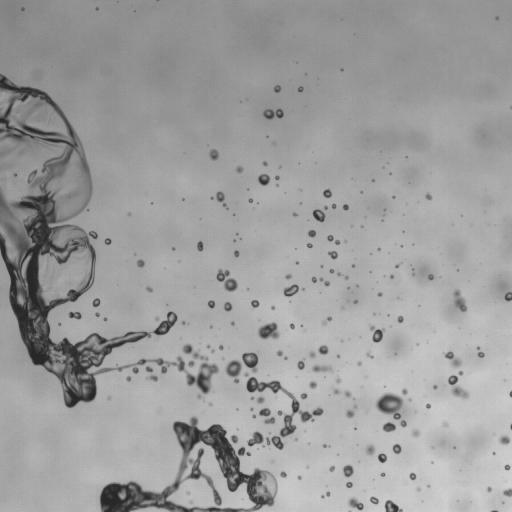droplet: (374, 392, 406, 427), (224, 351, 258, 383), (442, 350, 463, 369), (257, 322, 280, 339), (368, 323, 385, 344), (452, 289, 467, 312), (258, 408, 275, 424), (347, 496, 364, 511), (384, 499, 403, 511), (144, 366, 158, 381), (312, 209, 325, 222), (345, 404, 357, 418), (257, 173, 270, 185), (498, 434, 511, 445), (342, 464, 353, 477), (382, 422, 396, 432), (365, 444, 376, 456), (208, 149, 219, 160), (318, 344, 329, 355), (20, 153, 31, 164), (4, 192, 15, 203), (315, 197, 326, 208), (224, 290, 235, 301), (64, 300, 75, 311), (82, 304, 93, 315), (46, 309, 57, 320), (7, 315, 18, 326), (131, 322, 142, 333), (113, 327, 124, 338), (102, 329, 113, 340), (49, 331, 60, 342), (17, 344, 28, 355), (164, 351, 175, 362), (314, 353, 325, 364), (102, 354, 113, 365), (301, 367, 312, 378), (216, 368, 227, 379), (255, 371, 266, 382), (208, 374, 219, 385), (52, 381, 63, 392), (341, 398, 352, 409), (273, 418, 284, 429), (197, 420, 208, 431), (386, 431, 397, 442), (240, 463, 251, 474), (152, 482, 163, 493), (348, 487, 359, 498), (358, 493, 369, 504), (296, 357, 305, 370), (392, 443, 402, 454), (377, 452, 387, 463), (68, 311, 81, 319), (322, 188, 332, 198), (327, 250, 338, 259), (223, 301, 232, 311), (365, 349, 374, 359), (502, 487, 511, 497), (369, 496, 379, 505), (251, 299, 259, 310), (476, 346, 484, 357), (91, 298, 100, 307), (3, 89, 12, 98), (4, 137, 13, 146), (257, 165, 266, 174), (19, 170, 28, 179), (310, 219, 319, 228), (326, 241, 335, 250), (326, 258, 335, 267), (2, 275, 11, 284), (446, 294, 455, 303), (214, 300, 223, 309), (199, 346, 208, 355), (182, 353, 191, 362), (304, 358, 313, 367), (217, 362, 226, 371), (152, 364, 161, 373), (168, 365, 177, 374), (177, 371, 186, 380), (311, 371, 320, 380), (238, 375, 247, 384), (337, 382, 346, 391), (190, 383, 199, 392), (392, 387, 401, 396), (374, 389, 383, 398), (298, 402, 307, 411), (291, 413, 300, 422), (384, 413, 393, 422), (230, 441, 239, 450), (384, 448, 393, 457), (334, 466, 343, 475), (118, 476, 127, 485), (307, 229, 317, 237), (410, 429, 420, 437), (136, 259, 145, 267), (207, 300, 215, 309), (309, 380, 317, 389), (197, 240, 203, 251), (92, 505, 103, 511), (146, 505, 157, 511), (258, 505, 269, 511), (362, 505, 373, 511), (374, 505, 385, 511), (235, 165, 243, 173), (308, 350, 316, 358), (279, 470, 287, 478), (408, 472, 416, 480), (504, 292, 511, 301), (299, 392, 308, 399), (273, 85, 281, 92), (425, 192, 432, 200), (145, 286, 153, 293), (300, 324, 307, 332), (0, 224, 5, 235), (0, 259, 5, 270), (335, 375, 341, 384), (104, 238, 111, 245), (285, 273, 292, 280), (427, 273, 434, 280), (442, 420, 449, 427), (15, 80, 22, 87), (29, 81, 36, 88), (71, 123, 78, 130), (3, 154, 10, 161), (85, 157, 92, 164), (35, 163, 42, 170), (6, 168, 13, 175), (268, 177, 275, 184), (90, 191, 97, 198), (14, 195, 21, 202), (325, 197, 332, 204), (335, 203, 342, 210), (97, 234, 104, 241), (307, 236, 314, 243), (88, 237, 95, 244), (93, 270, 100, 277), (323, 273, 330, 280), (346, 278, 353, 285), (285, 279, 292, 286), (236, 281, 243, 288), (459, 290, 466, 297), (264, 317, 271, 324), (151, 321, 158, 328), (275, 325, 282, 332), (252, 328, 259, 335), (265, 335, 272, 342), (69, 337, 76, 344), (181, 338, 188, 345), (326, 349, 333, 356), (452, 350, 459, 357), (24, 355, 31, 362), (361, 355, 368, 362), (224, 356, 231, 363), (206, 358, 213, 365), (35, 363, 42, 370), (138, 364, 145, 371), (240, 364, 247, 371), (125, 367, 132, 374), (451, 368, 458, 375), (93, 374, 100, 381), (52, 376, 59, 383), (264, 386, 271, 393), (304, 386, 311, 393), (252, 389, 259, 396), (94, 390, 101, 397), (468, 391, 475, 398), (203, 392, 210, 399), (337, 392, 344, 399), (400, 394, 407, 401), (454, 395, 461, 402), (76, 399, 83, 406), (88, 399, 95, 406), (257, 402, 264, 409), (285, 407, 292, 414), (353, 408, 360, 415), (269, 409, 276, 416), (183, 417, 190, 424), (392, 418, 399, 425), (405, 423, 412, 430), (169, 431, 176, 438), (224, 432, 231, 439), (246, 432, 253, 439), (365, 438, 372, 445), (243, 444, 250, 451), (175, 445, 182, 452), (359, 447, 366, 454), (373, 448, 380, 455), (371, 452, 378, 459), (237, 454, 244, 461), (172, 464, 179, 471), (273, 471, 280, 478), (167, 477, 174, 484), (102, 478, 109, 485), (503, 482, 510, 489), (140, 484, 147, 491), (95, 487, 102, 494), (355, 495, 362, 502), (504, 495, 511, 502), (93, 496, 100, 503), (378, 499, 385, 506), (305, 242, 313, 248), (397, 315, 403, 323), (401, 388, 407, 396), (345, 481, 353, 487), (506, 495, 511, 504), (133, 506, 142, 511), (342, 204, 349, 210), (233, 250, 239, 257), (276, 350, 283, 356), (504, 464, 511, 470), (181, 320, 189, 325), (297, 86, 303, 92), (356, 360, 362, 366), (425, 403, 431, 409), (328, 465, 334, 471), (486, 486, 492, 492), (289, 322, 294, 329), (273, 175, 279, 180), (331, 203, 336, 209), (292, 212, 298, 217), (218, 344, 223, 350), (380, 471, 385, 477), (507, 432, 511, 439), (160, 507, 167, 511), (351, 507, 358, 511), (262, 161, 267, 166), (323, 205, 328, 210), (329, 268, 334, 273), (389, 274, 394, 279), (377, 292, 382, 297), (95, 312, 100, 317), (126, 376, 131, 381), (252, 413, 257, 418), (416, 486, 421, 491), (270, 82, 275, 87), (39, 86, 44, 91), (269, 88, 274, 93), (51, 96, 56, 101), (271, 106, 276, 111), (282, 110, 287, 115), (272, 114, 277, 119), (66, 116, 71, 121), (263, 117, 268, 122), (68, 119, 73, 124), (209, 144, 214, 149), (214, 145, 219, 150), (217, 152, 222, 157), (205, 154, 210, 159), (213, 158, 218, 163), (238, 161, 243, 166), (231, 164, 236, 169), (11, 167, 16, 172), (27, 167, 32, 172), (36, 170, 41, 175), (240, 170, 245, 175), (275, 170, 280, 175), (234, 171, 239, 176), (91, 181, 96, 186), (256, 182, 261, 187), (261, 184, 266, 189), (321, 185, 326, 190), (329, 187, 334, 192), (318, 191, 323, 196), (429, 191, 434, 196), (212, 197, 217, 202), (222, 197, 227, 202), (423, 198, 428, 203), (217, 201, 222, 206), (85, 203, 90, 208), (347, 203, 352, 208), (327, 205, 332, 210), (319, 206, 324, 211), (227, 209, 232, 214), (322, 209, 327, 214), (310, 216, 315, 221), (63, 219, 68, 224), (77, 222, 82, 227), (314, 232, 319, 237), (233, 234, 238, 239), (87, 235, 92, 240), (338, 237, 343, 242), (192, 242, 197, 247), (202, 242, 207, 247), (372, 248, 377, 253), (94, 250, 99, 255), (229, 250, 234, 255), (238, 250, 243, 255), (136, 254, 141, 259), (336, 254, 341, 259), (140, 255, 145, 260), (333, 257, 338, 262), (132, 262, 137, 267), (142, 264, 147, 269), (284, 269, 289, 274), (212, 270, 217, 275), (331, 272, 336, 277), (432, 272, 437, 277), (338, 275, 343, 280), (384, 275, 389, 280), (423, 276, 428, 281), (235, 279, 240, 284), (219, 280, 224, 285), (148, 282, 153, 287), (350, 284, 355, 289), (376, 287, 381, 292), (297, 288, 302, 293), (224, 289, 229, 294), (231, 289, 236, 294), (144, 290, 149, 295), (77, 295, 82, 300), (249, 295, 254, 300), (284, 295, 289, 300), (349, 296, 354, 301), (348, 300, 353, 305), (230, 301, 235, 306), (464, 301, 469, 306), (93, 306, 98, 311), (254, 306, 259, 311), (454, 306, 459, 311), (172, 308, 177, 313), (229, 308, 234, 313), (225, 310, 230, 315), (462, 310, 467, 315), (64, 312, 69, 317), (98, 314, 103, 319), (161, 315, 166, 320), (392, 316, 397, 321), (173, 321, 178, 326), (294, 323, 299, 328), (374, 324, 379, 329), (169, 325, 174, 330), (127, 326, 132, 331), (368, 330, 373, 335), (381, 331, 386, 336), (99, 332, 104, 337), (151, 332, 156, 337), (159, 333, 164, 338), (80, 335, 85, 340), (137, 338, 142, 343), (320, 340, 325, 345), (377, 340, 382, 345), (124, 341, 129, 346), (374, 341, 379, 346), (213, 344, 218, 349), (111, 346, 116, 351), (191, 346, 196, 351), (274, 346, 279, 351), (327, 347, 332, 352), (479, 347, 484, 352), (245, 348, 250, 353), (251, 348, 256, 353), (315, 351, 320, 356), (272, 352, 277, 357), (143, 354, 148, 359), (153, 354, 158, 359), (256, 354, 261, 359), (161, 355, 166, 360), (278, 355, 283, 360), (134, 356, 139, 361), (477, 356, 482, 361), (444, 357, 449, 362), (352, 359, 357, 364), (117, 361, 122, 366), (144, 361, 149, 366), (255, 362, 260, 367), (292, 362, 297, 367), (99, 363, 104, 368), (356, 365, 361, 370), (457, 365, 462, 370), (296, 368, 301, 373), (113, 369, 118, 374), (462, 369, 467, 374), (106, 370, 111, 375), (324, 370, 329, 375), (145, 371, 150, 376), (248, 372, 253, 377), (338, 373, 343, 378), (456, 374, 461, 379), (229, 375, 234, 380), (121, 377, 126, 382), (256, 377, 261, 382), (264, 378, 269, 383), (149, 379, 154, 384), (443, 379, 448, 384), (124, 380, 129, 385), (279, 381, 284, 386), (447, 383, 452, 388), (347, 386, 352, 391), (95, 387, 100, 392), (287, 387, 292, 392), (406, 387, 411, 392), (299, 388, 304, 393), (328, 388, 333, 393), (276, 389, 281, 394), (350, 391, 355, 396), (296, 396, 301, 401), (287, 398, 292, 403), (59, 399, 64, 404), (354, 399, 359, 404), (203, 402, 208, 407), (319, 403, 324, 408), (307, 408, 312, 413), (396, 408, 401, 413), (341, 409, 346, 414), (248, 410, 253, 415), (320, 412, 325, 417), (260, 414, 265, 419), (312, 414, 317, 419), (399, 415, 404, 420), (348, 416, 353, 421), (306, 418, 311, 423), (213, 419, 218, 424), (266, 422, 271, 427), (416, 425, 421, 430), (442, 426, 447, 431), (251, 427, 256, 432), (293, 428, 298, 433), (387, 430, 392, 435), (418, 432, 423, 437), (261, 433, 266, 438), (411, 436, 416, 441), (261, 439, 266, 444), (392, 439, 397, 444), (398, 441, 403, 446), (253, 442, 258, 447), (374, 458, 379, 463), (344, 460, 349, 465), (383, 460, 388, 465), (258, 465, 263, 470), (351, 465, 356, 470), (345, 476, 350, 481), (341, 483, 346, 488), (420, 484, 425, 489), (490, 484, 495, 489), (481, 486, 486, 491), (486, 491, 491, 496), (273, 496, 278, 501), (392, 499, 397, 504), (397, 503, 402, 508), (248, 198, 253, 202), (127, 211, 131, 216), (294, 261, 299, 265), (353, 299, 358, 303), (271, 305, 275, 310), (102, 317, 107, 321), (155, 316, 159, 321), (433, 384, 437, 389), (408, 397, 412, 402), (208, 401, 212, 406), (297, 475, 301, 480), (272, 141, 276, 145), (13, 172, 17, 176), (371, 178, 375, 182), (275, 183, 279, 187), (171, 246, 175, 250), (396, 296, 400, 300), (230, 321, 234, 325), (336, 354, 340, 358), (294, 437, 298, 441), (186, 491, 190, 495), (297, 188, 302, 191), (250, 406, 253, 411), (508, 439, 511, 444), (508, 461, 511, 466), (360, 508, 365, 511), (21, 7, 24, 11), (95, 6, 98, 10), (495, 16, 498, 20), (278, 165, 281, 169), (392, 195, 395, 199), (181, 198, 185, 201), (360, 225, 364, 228), (344, 239, 347, 243), (377, 247, 380, 251), (320, 264, 323, 268), (355, 284, 359, 287), (246, 287, 249, 291), (341, 306, 344, 310), (372, 312, 376, 315), (58, 322, 61, 326), (209, 325, 212, 329), (221, 356, 224, 360), (284, 356, 287, 360), (107, 396, 111, 399), (354, 426, 357, 430), (430, 446, 434, 449), (492, 451, 495, 455), (430, 460, 433, 464), (306, 465, 309, 469), (426, 484, 430, 487), (189, 500, 193, 503), (0, 254, 2, 259), (340, 68, 343, 71), (304, 72, 307, 75), (360, 190, 363, 193), (210, 196, 213, 199), (299, 202, 302, 205), (383, 208, 386, 211), (460, 214, 463, 217), (350, 224, 353, 227), (235, 232, 238, 235), (233, 239, 236, 242), (400, 244, 403, 247), (352, 264, 355, 267), (347, 286, 350, 289), (417, 304, 420, 307), (340, 339, 343, 342), (416, 343, 419, 346), (394, 352, 397, 355), (360, 385, 363, 388), (414, 410, 417, 413), (492, 432, 495, 435), (501, 501, 504, 504), (22, 4, 25, 7), (92, 5, 95, 8), (98, 6, 101, 9), (17, 7, 20, 10), (23, 8, 26, 11), (96, 9, 99, 12), (20, 10, 23, 13), (498, 16, 501, 19), (339, 70, 342, 73), (277, 82, 280, 85), (300, 83, 303, 86), (296, 84, 299, 87), (294, 88, 297, 91), (302, 88, 305, 91), (279, 89, 282, 92), (276, 91, 279, 94), (298, 91, 301, 94), (280, 116, 283, 119), (266, 132, 269, 135), (268, 135, 271, 138), (265, 137, 268, 140), (404, 152, 407, 155), (407, 155, 410, 158), (403, 157, 406, 160), (266, 160, 269, 163), (387, 169, 390, 172), (391, 171, 394, 174), (16, 172, 19, 175), (387, 174, 390, 177), (11, 175, 14, 178), (369, 176, 372, 179), (374, 178, 377, 181), (275, 179, 278, 182), (24, 180, 27, 183), (370, 181, 373, 184), (359, 187, 362, 190), (362, 189, 365, 192), (356, 190, 359, 193), (391, 192, 394, 195), (183, 195, 186, 198), (213, 195, 216, 198), (248, 195, 251, 198), (388, 195, 391, 198), (394, 196, 397, 199), (178, 197, 181, 200), (149, 198, 152, 201), (299, 198, 302, 201), (245, 199, 248, 202), (252, 199, 255, 202), (427, 199, 430, 202), (180, 200, 183, 203), (258, 200, 261, 203), (342, 201, 345, 204), (147, 202, 150, 205), (152, 202, 155, 205), (248, 202, 251, 205), (222, 206, 225, 209), (83, 207, 86, 210), (88, 209, 91, 212), (343, 209, 346, 212), (295, 210, 298, 213), (381, 210, 384, 213), (384, 210, 387, 213), (234, 212, 237, 215), (289, 212, 292, 215), (232, 215, 235, 218), (291, 215, 294, 218), (295, 215, 298, 218), (382, 216, 385, 219), (323, 217, 326, 220), (380, 221, 383, 224), (361, 222, 364, 225), (361, 227, 364, 230), (400, 227, 403, 230), (93, 228, 96, 231), (235, 229, 238, 232), (404, 229, 407, 232), (85, 230, 88, 233), (399, 231, 402, 234), (326, 232, 329, 235), (107, 235, 110, 238), (229, 238, 232, 241), (239, 239, 242, 242), (325, 239, 328, 242), (331, 239, 334, 242), (110, 240, 113, 243), (399, 241, 402, 244), (104, 243, 107, 246), (108, 243, 111, 246), (173, 244, 176, 247), (294, 244, 297, 247), (376, 244, 379, 247), (402, 245, 405, 248), (168, 246, 171, 249), (398, 246, 401, 249), (235, 247, 238, 250), (307, 247, 310, 250), (173, 249, 176, 252), (199, 250, 202, 253), (377, 250, 380, 253), (336, 251, 339, 254), (234, 256, 237, 259), (296, 258, 299, 261), (351, 260, 354, 263), (298, 261, 301, 264), (319, 261, 322, 264), (395, 261, 398, 264), (354, 263, 357, 266), (295, 264, 298, 267), (348, 264, 351, 267), (398, 264, 401, 267), (411, 264, 414, 267), (317, 265, 320, 268), (455, 265, 458, 268), (137, 266, 140, 269), (331, 266, 334, 269), (408, 266, 411, 269), (351, 267, 354, 270), (395, 267, 398, 270), (458, 267, 461, 270), (326, 269, 329, 272), (409, 269, 412, 272), (413, 269, 416, 272), (453, 269, 456, 272), (333, 270, 336, 273), (340, 271, 343, 274), (427, 271, 430, 274), (456, 271, 459, 274), (343, 272, 346, 275), (367, 272, 370, 275), (387, 273, 390, 276), (393, 274, 396, 277), (348, 276, 351, 279), (429, 279, 432, 282), (309, 280, 312, 283), (358, 283, 361, 286), (246, 284, 249, 287), (344, 284, 347, 287), (324, 285, 327, 288), (248, 287, 251, 290), (348, 288, 351, 291), (292, 293, 295, 296), (94, 295, 97, 298), (288, 295, 291, 298), (376, 295, 379, 298), (379, 295, 382, 298), (501, 295, 504, 298), (210, 297, 213, 300), (205, 299, 208, 302), (257, 299, 260, 302), (99, 300, 102, 303), (89, 301, 92, 304), (271, 302, 274, 305), (355, 302, 358, 305), (258, 303, 261, 306), (249, 304, 252, 307), (268, 304, 271, 307), (206, 305, 209, 308), (274, 305, 277, 308), (268, 307, 271, 310), (71, 309, 74, 312), (271, 309, 274, 312), (386, 310, 389, 313), (80, 313, 83, 316), (327, 313, 330, 316), (375, 313, 378, 316), (383, 313, 386, 316), (93, 315, 96, 318), (323, 316, 326, 319), (331, 316, 334, 319), (106, 318, 109, 321), (229, 318, 232, 321), (402, 318, 405, 321), (184, 319, 187, 322), (102, 320, 105, 323), (233, 320, 236, 323), (60, 321, 63, 324), (400, 321, 403, 324), (227, 322, 230, 325), (206, 323, 209, 326), (212, 324, 215, 327), (206, 326, 209, 329), (287, 326, 290, 329), (300, 326, 303, 329), (209, 328, 212, 331), (123, 330, 126, 333), (477, 343, 480, 346), (222, 344, 225, 347), (473, 345, 476, 348), (364, 349, 367, 352), (444, 350, 447, 353), (441, 353, 444, 356), (339, 354, 342, 357), (367, 356, 370, 359), (298, 357, 301, 360), (371, 357, 374, 360), (283, 359, 286, 362), (136, 371, 139, 374), (430, 383, 433, 386), (430, 386, 433, 389), (435, 387, 438, 390), (506, 393, 509, 396), (411, 399, 414, 402), (428, 401, 431, 404), (235, 404, 238, 407), (430, 404, 433, 407), (209, 405, 212, 408), (247, 406, 250, 409), (238, 407, 241, 410), (424, 407, 427, 410), (428, 407, 431, 410), (233, 409, 236, 412), (405, 420, 408, 423), (351, 424, 354, 427), (404, 425, 407, 428), (507, 425, 510, 428), (350, 427, 353, 430), (354, 429, 357, 432), (325, 441, 328, 444), (450, 443, 453, 446), (282, 444, 285, 447), (319, 444, 322, 447), (455, 445, 458, 448), (325, 446, 328, 449), (400, 447, 403, 450), (452, 448, 455, 451), (489, 450, 492, 453), (494, 450, 497, 453), (492, 454, 495, 457), (431, 457, 434, 460), (427, 460, 430, 463), (433, 460, 436, 463), (504, 461, 507, 464), (330, 462, 333, 465), (430, 463, 433, 466), (327, 464, 330, 467), (501, 466, 504, 469), (380, 469, 383, 472), (505, 469, 508, 472), (327, 470, 330, 473), (414, 471, 417, 474), (297, 472, 300, 475), (384, 473, 387, 476), (285, 474, 288, 477), (406, 474, 409, 477), (415, 474, 418, 477), (379, 475, 382, 478), (294, 476, 297, 479), (407, 477, 410, 480), (425, 481, 428, 484), (487, 483, 490, 486), (347, 487, 350, 490), (426, 487, 429, 490), (329, 492, 332, 495), (323, 493, 326, 496), (317, 494, 320, 497), (367, 495, 370, 498), (320, 497, 323, 500), (370, 502, 373, 505), (492, 507, 495, 510), (389, 172, 391, 175), (246, 188, 249, 190), (150, 202, 153, 204), (402, 230, 404, 233), (239, 237, 242, 239), (294, 248, 297, 250), (178, 260, 180, 263), (456, 269, 459, 271), (369, 270, 371, 273), (166, 303, 168, 306), (387, 313, 389, 316), (179, 337, 182, 339), (358, 336, 361, 338), (503, 378, 505, 381), (383, 385, 386, 387), (268, 432, 271, 434), (453, 446, 455, 449), (509, 289, 511, 292), (509, 299, 511, 302), (509, 466, 511, 469), (266, 135, 268, 137), (405, 156, 407, 158), (382, 166, 384, 168), (233, 213, 235, 215), (381, 219, 383, 221), (412, 243, 414, 245), (134, 253, 136, 255), (383, 275, 385, 277), (289, 300, 291, 302), (389, 325, 391, 327), (236, 408, 238, 410), (236, 428, 238, 430), (304, 430, 306, 432), (308, 442, 310, 444), (257, 448, 259, 450), (337, 453, 339, 455), (372, 478, 374, 480), (241, 498, 243, 500), (421, 500, 423, 502), (257, 202, 258, 204), (369, 253, 371, 254), (164, 267, 165, 269), (439, 276, 441, 277), (295, 376, 297, 377), (328, 394, 330, 395), (356, 444, 358, 445), (410, 264, 411, 265), (358, 461, 359, 462)
ligament: (216, 268, 238, 292), (331, 387, 355, 401), (282, 284, 305, 297), (215, 190, 228, 210), (262, 108, 283, 119), (311, 276, 330, 287), (311, 364, 334, 373), (326, 234, 340, 245), (0, 162, 13, 171), (336, 271, 348, 280), (250, 396, 265, 403), (321, 316, 332, 325), (206, 343, 215, 353), (320, 491, 330, 498), (395, 261, 403, 268), (411, 268, 416, 276), (322, 443, 330, 447), (509, 390, 511, 397), (490, 510, 499, 511), (510, 423, 511, 430), (252, 207, 255, 209), (382, 214, 385, 216), (510, 105, 511, 109), (156, 0, 159, 1)
